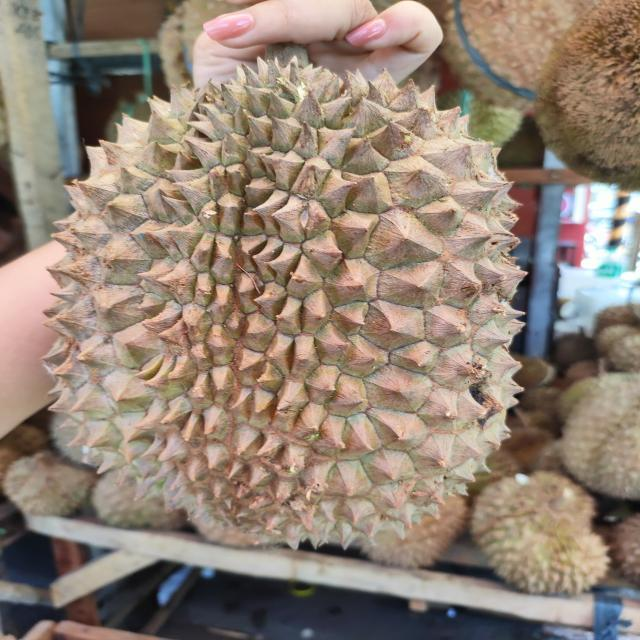mature: (44, 53, 528, 553)
